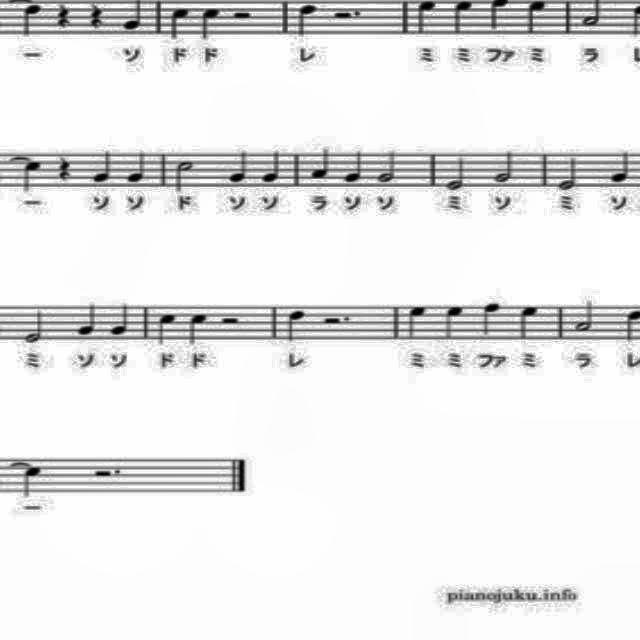Half-note: (488, 144, 518, 188), (442, 149, 470, 195), (22, 302, 50, 346), (374, 144, 402, 188), (570, 292, 598, 336), (554, 150, 582, 194), (172, 153, 198, 194)
Half-rest: (330, 2, 368, 26), (86, 462, 130, 482), (320, 309, 356, 331), (218, 310, 244, 330), (231, 4, 257, 24)
Quarter-note: (607, 144, 637, 188), (478, 296, 506, 340), (292, 0, 322, 40), (184, 308, 212, 349), (225, 146, 252, 188), (88, 147, 115, 189), (125, 147, 152, 189), (404, 302, 432, 342), (19, 0, 47, 40), (306, 142, 334, 182), (282, 306, 310, 346), (516, 301, 542, 344), (441, 301, 467, 344), (260, 146, 286, 188), (73, 299, 99, 341), (106, 300, 132, 342), (16, 156, 44, 194), (17, 463, 45, 501), (411, 0, 440, 36), (155, 310, 181, 350), (199, 4, 225, 44), (166, 4, 192, 44), (523, 0, 551, 36), (342, 146, 366, 187), (450, 0, 477, 36), (118, 0, 146, 34)
Quarter-rest: (54, 151, 76, 185), (86, 1, 110, 32), (52, 1, 76, 32)
